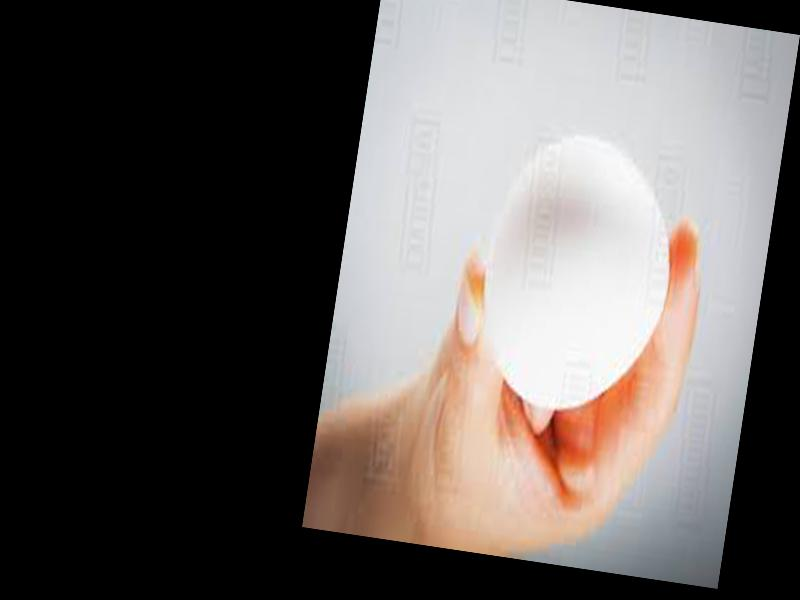Eggs: (469, 127, 689, 412)
